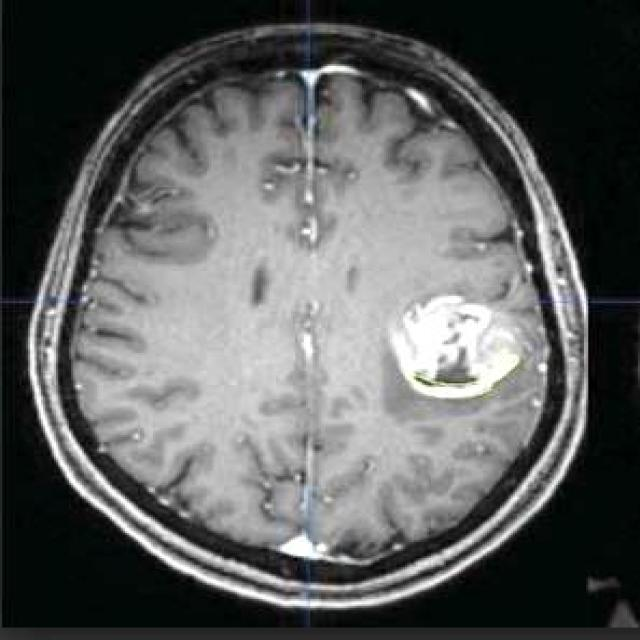Tumor-Cell: (372, 300, 541, 411)
